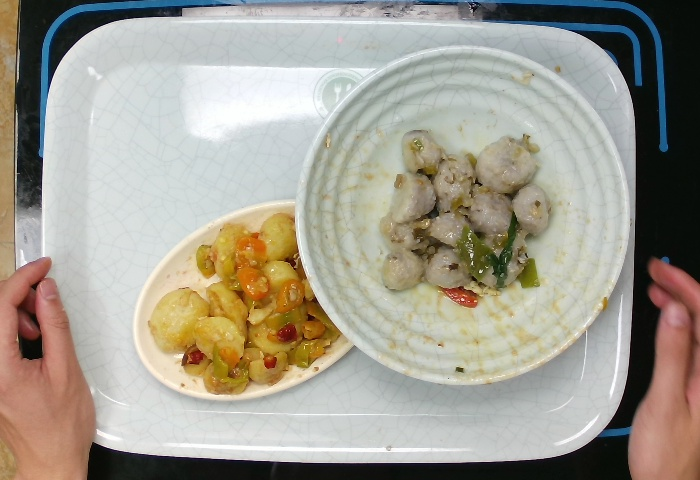JYsf-Da_Tang_Wan: (290, 43, 627, 388)
JYsf-Tuo_Yuan_Wan: (130, 194, 358, 400)
